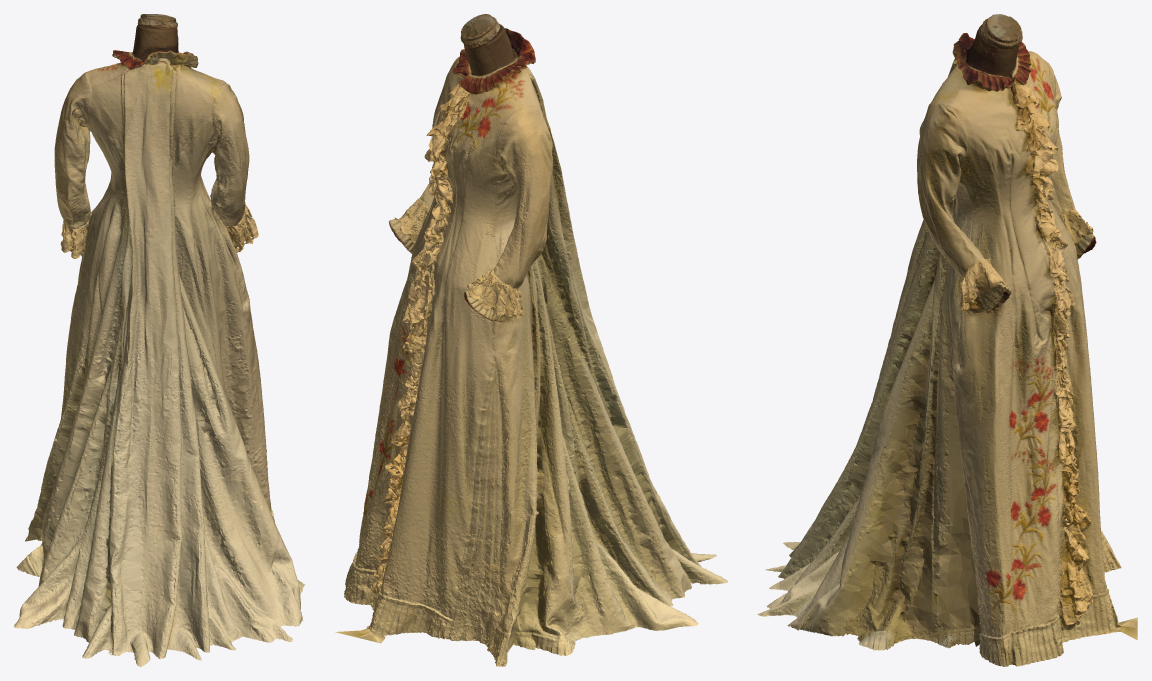
The model's file is dr-2025-550-detail.glb.
The picture shows the model from 3 angles, left to right: view 1: azimuth 30°, elevation 25°; view 2: azimuth 150°, elevation 25°; view 3: azimuth 270°, elevation 25°; orthographic projection. The views are drawn at different scales.
Parts seen in each view (by area): view 1: display; view 2: display; view 3: display.
Boxes of the visible parts, x1,y1,x2,y2 form: display: [14, 14, 304, 666]; display: [335, 14, 728, 666]; display: [757, 14, 1137, 666].
Size of the model in its own units: 10.92 by 19.61 by 11.54.
Materials: 1 (1 with a texture image).
